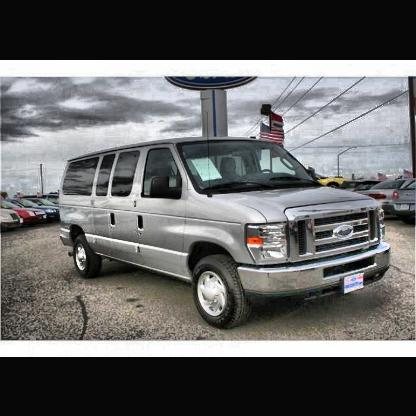Ford E-Series Wagon Van 2012: (56, 133, 397, 332)
